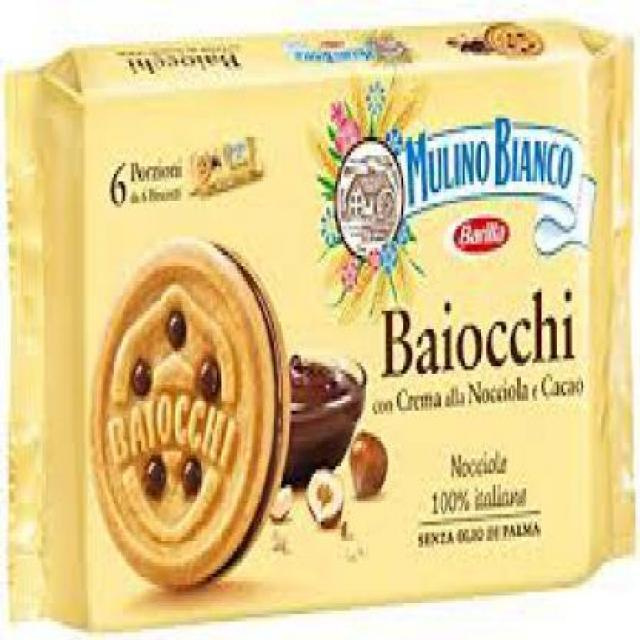Merendine: (2, 22, 638, 636)
